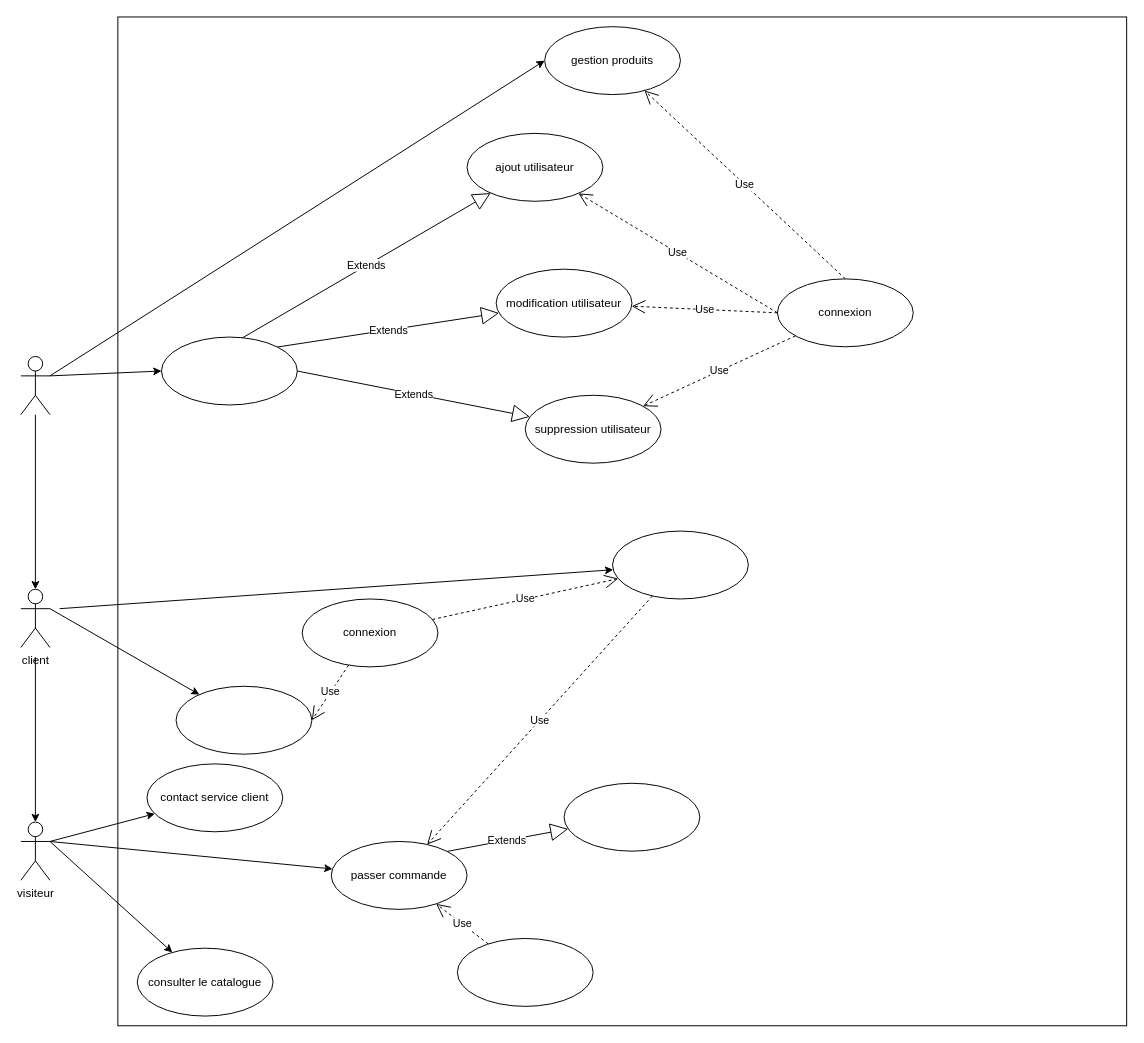
Image size: 1144x1043. Some labels were removed from this diagram. Each missing label, with the centre of its shape:
"admin" belongs at pixel 35 385.
"ajouter des produits au panier" belongs at pixel 524 972.
"application réduction" belongs at pixel 680 564.
"gestion compte client" belongs at pixel 243 719.
"gestion utilisateurs" belongs at pixel 229 370.
"inscription" belongs at pixel 631 816.
